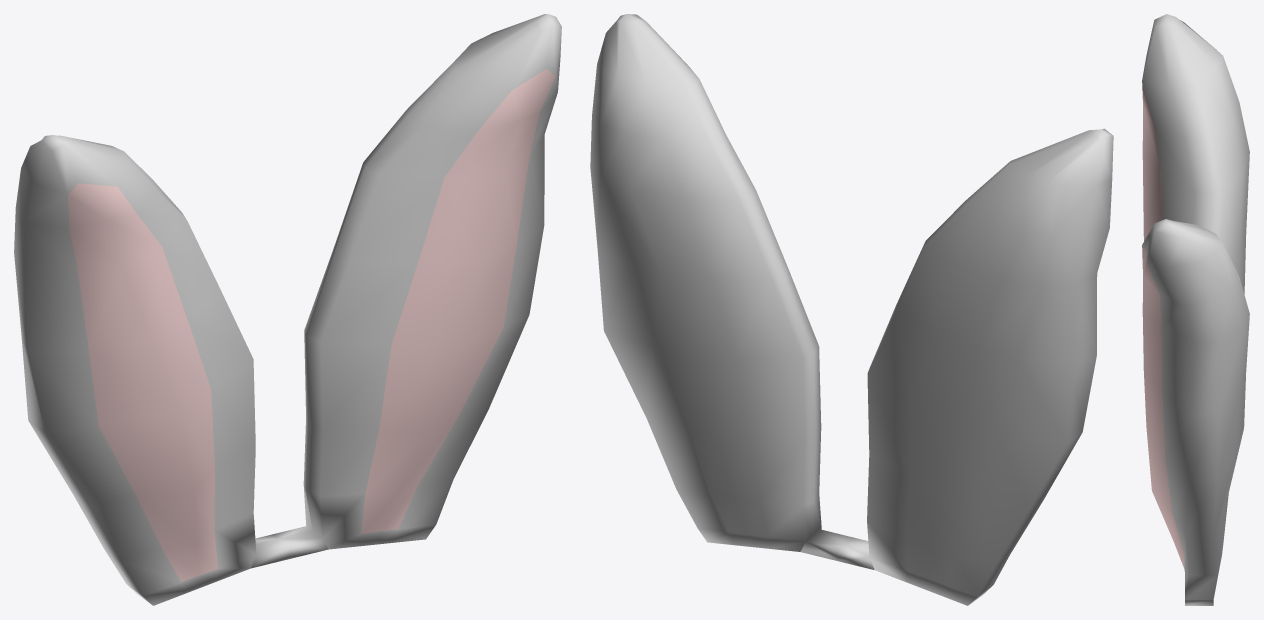
The model's file is NOVELO_RABBITEARS.gltf.
The picture shows the model from 3 angles, left to right: view 1: azimuth 30°, elevation 25°; view 2: azimuth 150°, elevation 25°; view 3: azimuth 270°, elevation 25°; orthographic projection. The views are drawn at different scales.
Visible parts, largest first — view 1: node-0; view 2: node-0; view 3: node-0.
Boxes of the visible parts, x1=… form: node-0: x1=14, y1=14, x2=561, y2=605; node-0: x1=590, y1=14, x2=1113, y2=605; node-0: x1=1142, y1=14, x2=1249, y2=605.
Size of the model in its own units: 184 by 166 by 37.62.
